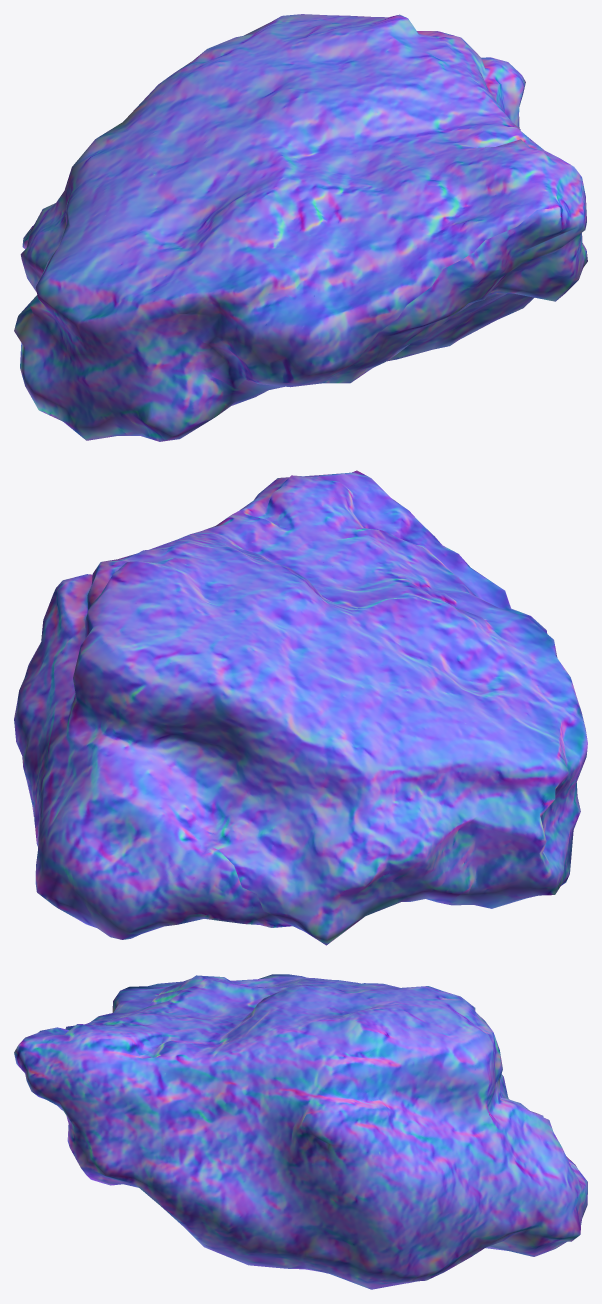
File: Rock002.fbx
3 views of the same model, one above another, from view 1: azimuth 30°, elevation 25°; view 2: azimuth 150°, elevation 25°; view 3: azimuth 270°, elevation 25° (orthographic). The views are drawn at different scales.
Visible parts, largest first — view 1: Rock02_LOD0; view 2: Rock02_LOD0; view 3: Rock02_LOD0.
Part boxes in pixels (<box>): Rock02_LOD0: <box>14,14,587,441</box>; Rock02_LOD0: <box>14,470,587,945</box>; Rock02_LOD0: <box>14,974,587,1289</box>.
Bounding box in the file's own units: 141 × 77.21 × 154.
